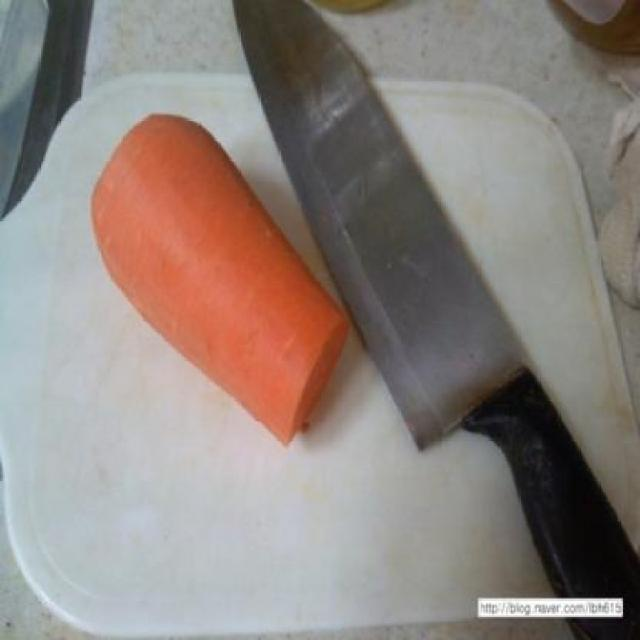carrot: (89, 100, 354, 451)
